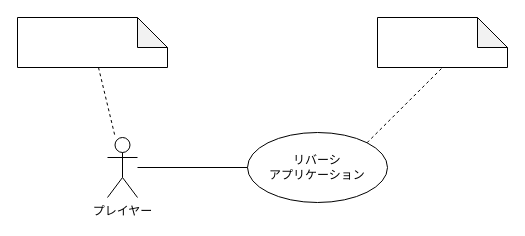
Some shapes in this 525 by 236 pixel diagram are drawn without their labels. Each missing label, with the centre of its shape:
"1人で黒白交互 に打つ" belongs at pixel 92 42.
"Webアプリ" belongs at pixel 442 42.
